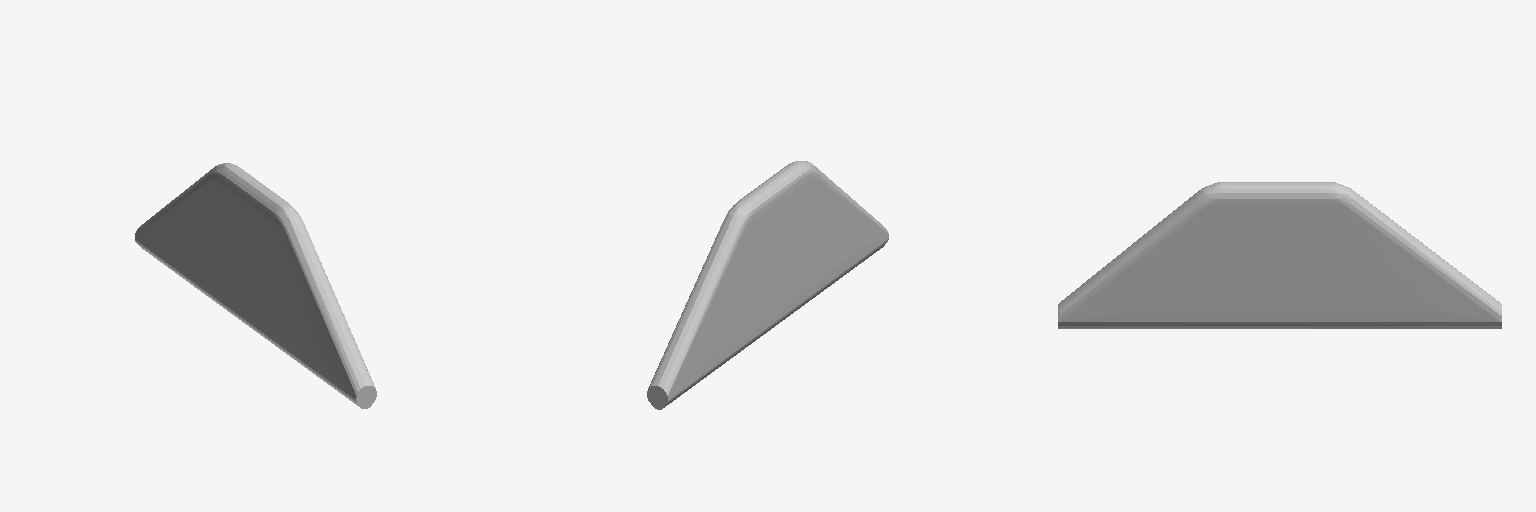
Rendered from dish_rack_collision_29.obj.
3 views of the same model, side by side, from view 1: azimuth 30°, elevation 25°; view 2: azimuth 150°, elevation 25°; view 3: azimuth 270°, elevation 25° (orthographic).
Size of the model in its own units: 0.0088 by 0.0575 by 0.1591.